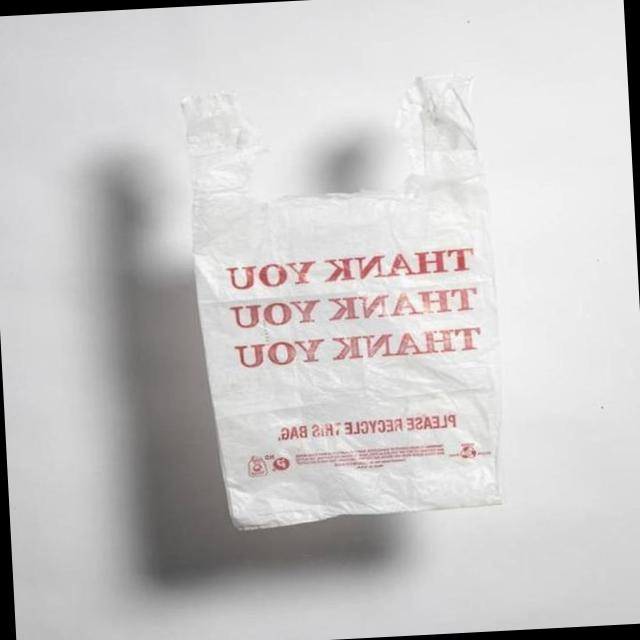KantongPlastik: (180, 70, 510, 534)
